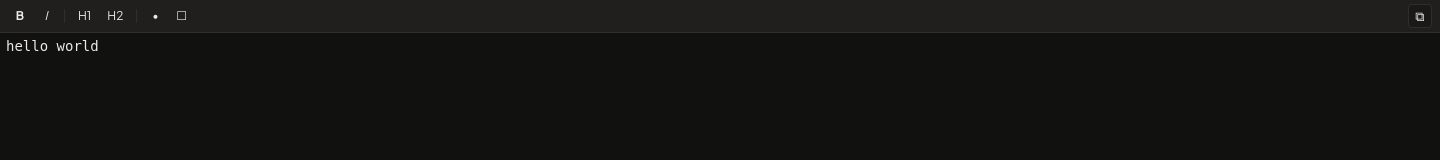
Test: NotesToolbar › Bold with collapsed caret inserts `****` and places cursor between markers
Step 1. Click the button named "Bold" → click(20, 16), box [8, 4, 32, 28]
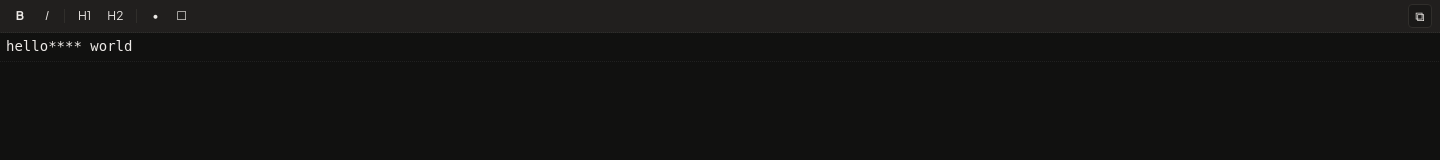
expect the text box labelled "hello**** world" is shown: met, box [6, 38, 132, 54]
